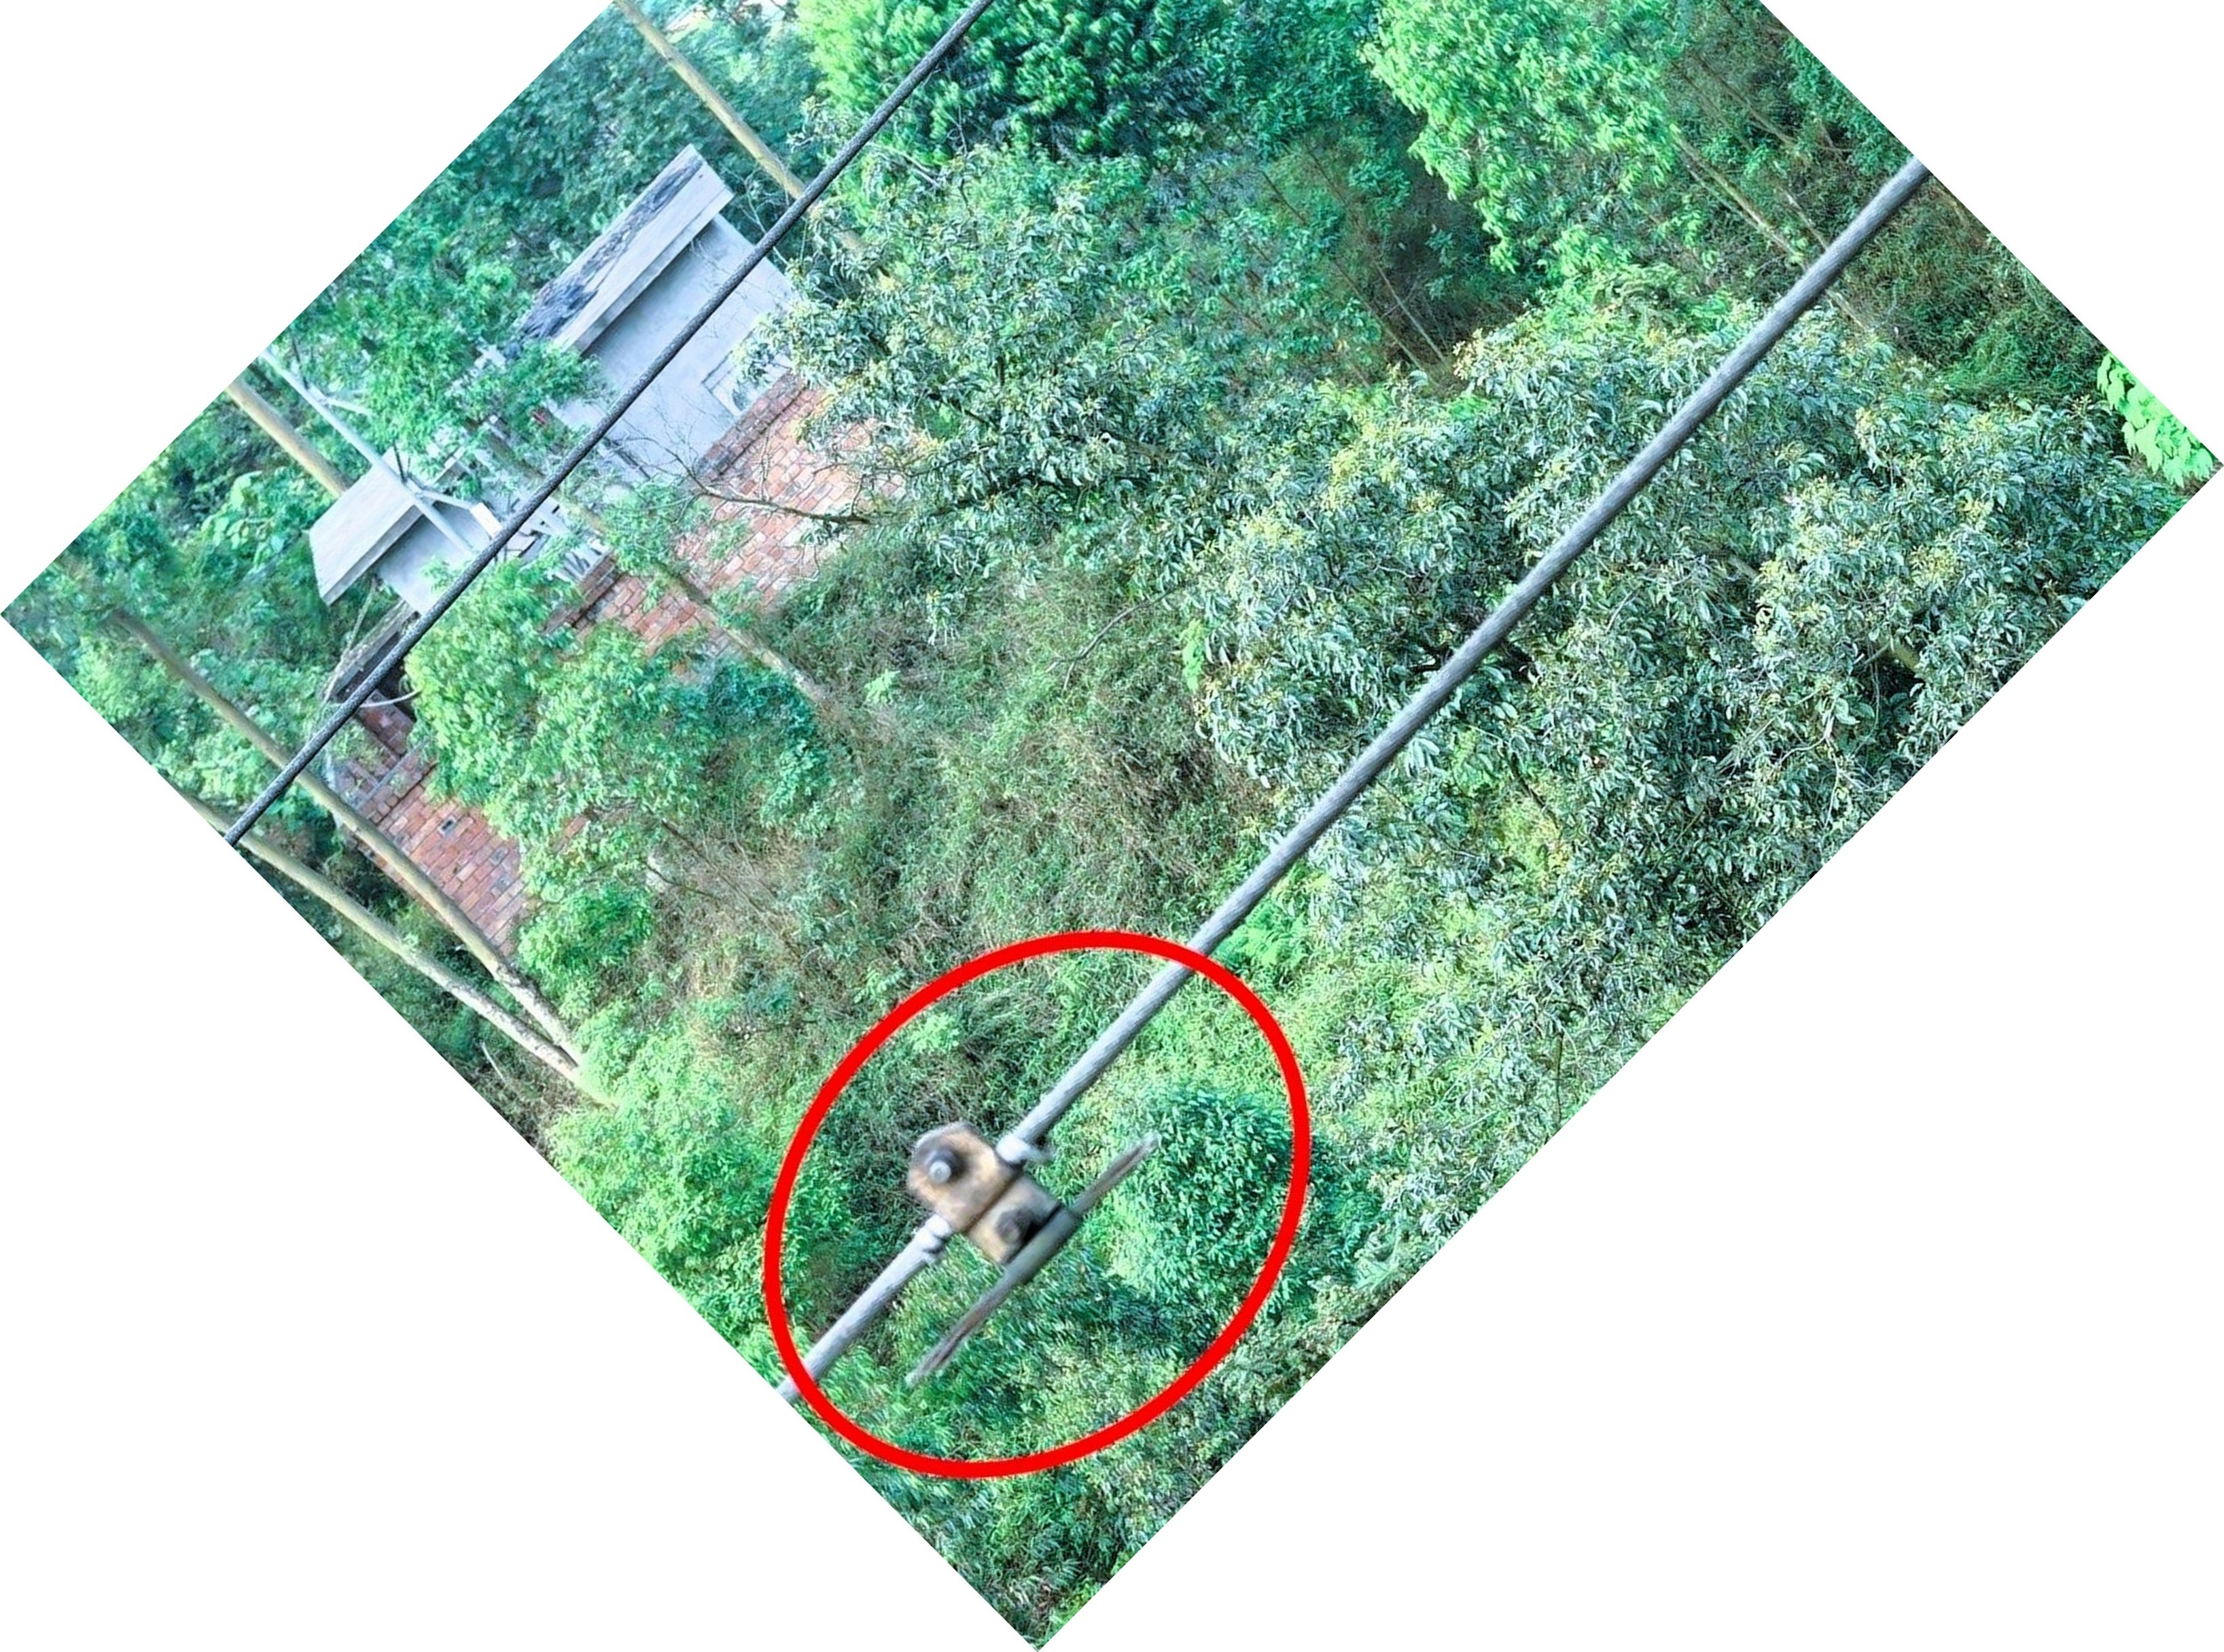Damage of shockproof hammer: (871, 1074, 1194, 1409)
